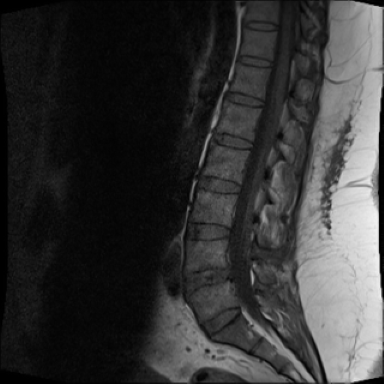Degenerative Disc Disease (DDD): (176, 257, 235, 302)
Normal IVD: (196, 301, 245, 341), (194, 171, 243, 197), (207, 127, 255, 153), (182, 217, 234, 241), (223, 87, 266, 109), (236, 51, 275, 69), (242, 17, 282, 33)
